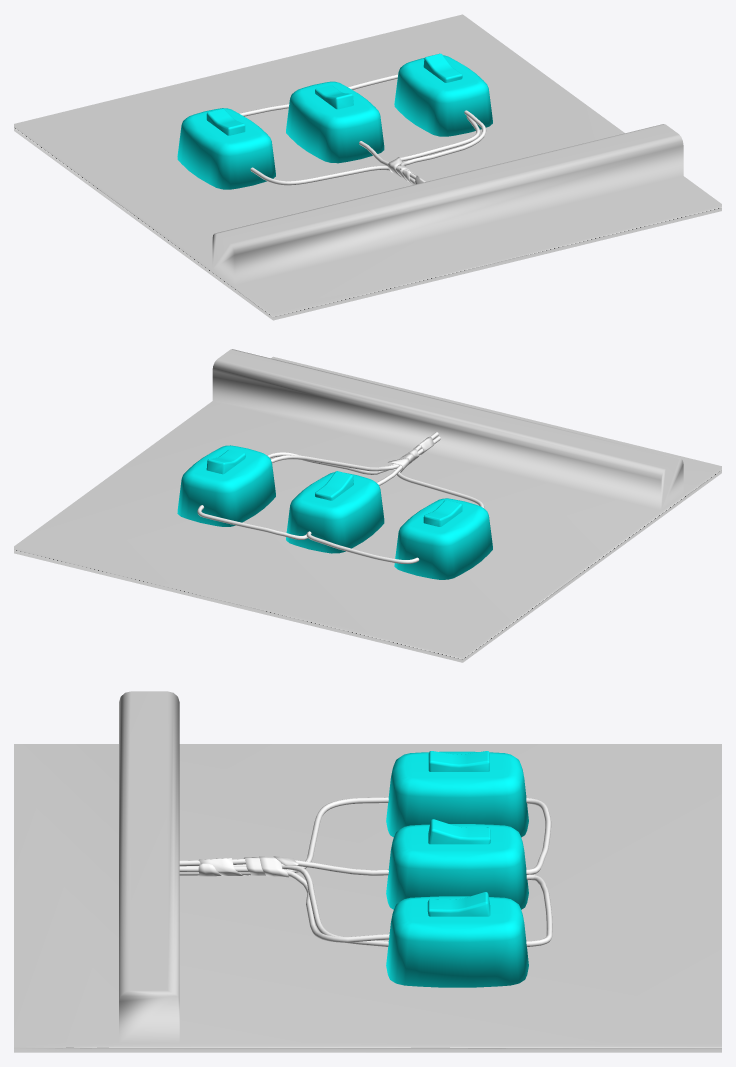
File: OldLightSwitch.fbx
3 renders of one model, top to bottom at view 1: azimuth 30°, elevation 25°; view 2: azimuth 150°, elevation 25°; view 3: azimuth 270°, elevation 25°, orthographic. The views are drawn at different scales.
Visible parts, largest first — view 1: base, fixa_low_02, fixa_low_01, fixa_low_03, tubo_03, interruptor_low_03, interruptor_low_01, interruptor_low_02, tubo_04, tubo_02; view 2: base, fixa_low_01, fixa_low_03, fixa_low_02, interruptor_low_02, tubo_02, interruptor_low_01, interruptor_low_03, tubo_05, tubo_06; view 3: base, fixa_low_03, fixa_low_02, fixa_low_01, wrap_low_01, interruptor_low_02, interruptor_low_03, interruptor_low_01, tubo_04, tubo_03, tubo_02, tubo_01 (+2 smaller).
Boxes of the visible parts, x1=… form: base: x1=14, y1=14, x2=721, y2=320; fixa_low_02: x1=286, y1=81, x2=384, y2=163; fixa_low_01: x1=177, y1=108, x2=275, y2=189; fixa_low_03: x1=394, y1=55, x2=492, y2=136; tubo_03: x1=250, y1=166, x2=414, y2=185; interruptor_low_03: x1=423, y1=53, x2=462, y2=82; interruptor_low_01: x1=206, y1=109, x2=245, y2=135; interruptor_low_02: x1=315, y1=85, x2=353, y2=109; tubo_04: x1=400, y1=110, x2=486, y2=165; tubo_02: x1=400, y1=116, x2=480, y2=184; base: x1=14, y1=349, x2=721, y2=662; fixa_low_01: x1=394, y1=498, x2=492, y2=579; fixa_low_03: x1=177, y1=445, x2=275, y2=526; fixa_low_02: x1=286, y1=472, x2=384, y2=553; interruptor_low_02: x1=315, y1=471, x2=353, y2=500; tubo_02: x1=271, y1=436, x2=440, y2=471; interruptor_low_01: x1=423, y1=500, x2=462, y2=526; interruptor_low_03: x1=206, y1=449, x2=245, y2=474; tubo_05: x1=306, y1=531, x2=419, y2=563; tubo_06: x1=197, y1=505, x2=307, y2=539; base: x1=14, y1=691, x2=721, y2=1052; fixa_low_03: x1=386, y1=896, x2=528, y2=987; fixa_low_02: x1=386, y1=824, x2=528, y2=909; fixa_low_01: x1=386, y1=751, x2=528, y2=837; wrap_low_01: x1=198, y1=856, x2=298, y2=877; interruptor_low_02: x1=428, y1=819, x2=490, y2=844; interruptor_low_03: x1=427, y1=892, x2=490, y2=916; interruptor_low_01: x1=428, y1=751, x2=489, y2=771; tubo_04: x1=179, y1=866, x2=389, y2=942; tubo_03: x1=179, y1=797, x2=388, y2=875; tubo_02: x1=180, y1=863, x2=388, y2=946; tubo_01: x1=179, y1=858, x2=388, y2=875.
Size of the model in its own units: 430 by 53.04 by 430.
